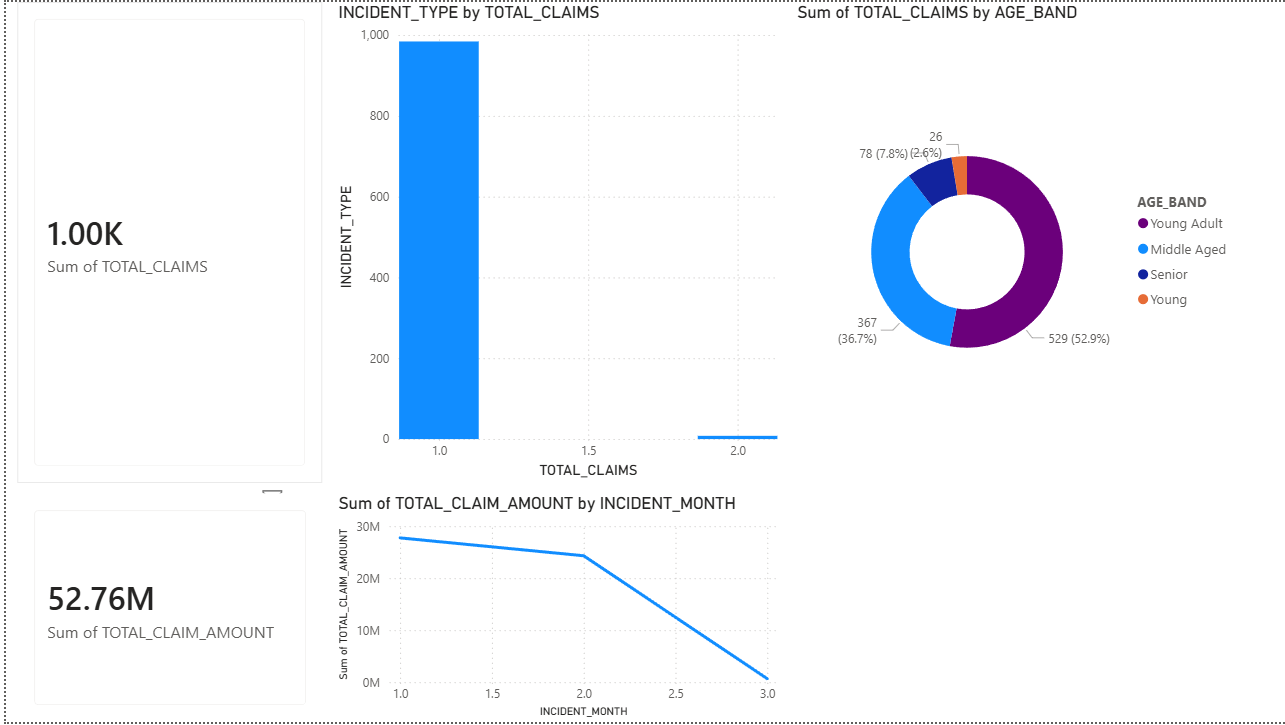

The page's visual inventory and layout, read from the dashboard file:
{"tool":"powerbi","page":{"name":"Claims Overview","canvas":[1280,720],"ordinal":0},"visuals":[{"type":"cardVisual","fields":{"Data":["Sum(CLAIMS_SUMMARY.TOTAL_CLAIMS)"]},"box":[10.7,0,306,481.1],"z":0},{"type":"cardVisual","fields":{"Data":["Sum(CLAIMS_SUMMARY.TOTAL_CLAIM_AMOUNT)"]},"box":[11,491,306,229],"z":1000},{"type":"clusteredColumnChart","fields":{"Category":["CLAIMS_SUMMARY.TOTAL_CLAIMS"],"Y":["CountNonNull(CLAIMS_SUMMARY.INCIDENT_TYPE)"]},"box":[327.3,0,449.1,481.1],"z":2000},{"type":"lineChart","fields":{"Category":["CLAIMS_SUMMARY.INCIDENT_MONTH"],"Y":["Sum(CLAIMS_SUMMARY.TOTAL_CLAIM_AMOUNT)"]},"box":[327,491,449,229],"z":3000},{"type":"donutChart","fields":{"Category":["CLAIMS_SUMMARY.AGE_BAND"],"Y":["Sum(CLAIMS_SUMMARY.TOTAL_CLAIMS)"]},"box":[786,0,449,481],"z":4000}]}

Visuals, with their boxes in screenshot pixels (x1, y1, x2, y2), scaled from the page's 1280x720 canvas onto the 1285x725 screenshot:
cardVisual - Sum(CLAIMS_SUMMARY.TOTAL_CLAIMS): (11,0,318,484)
cardVisual - Sum(CLAIMS_SUMMARY.TOTAL_CLAIM_AMOUNT): (11,494,318,724)
clusteredColumnChart - CLAIMS_SUMMARY.TOTAL_CLAIMS x CountNonNull(CLAIMS_SUMMARY.INCIDENT_TYPE): (329,0,779,484)
lineChart - CLAIMS_SUMMARY.INCIDENT_MONTH x Sum(CLAIMS_SUMMARY.TOTAL_CLAIM_AMOUNT): (328,494,779,724)
donutChart - CLAIMS_SUMMARY.AGE_BAND x Sum(CLAIMS_SUMMARY.TOTAL_CLAIMS): (789,0,1240,484)
